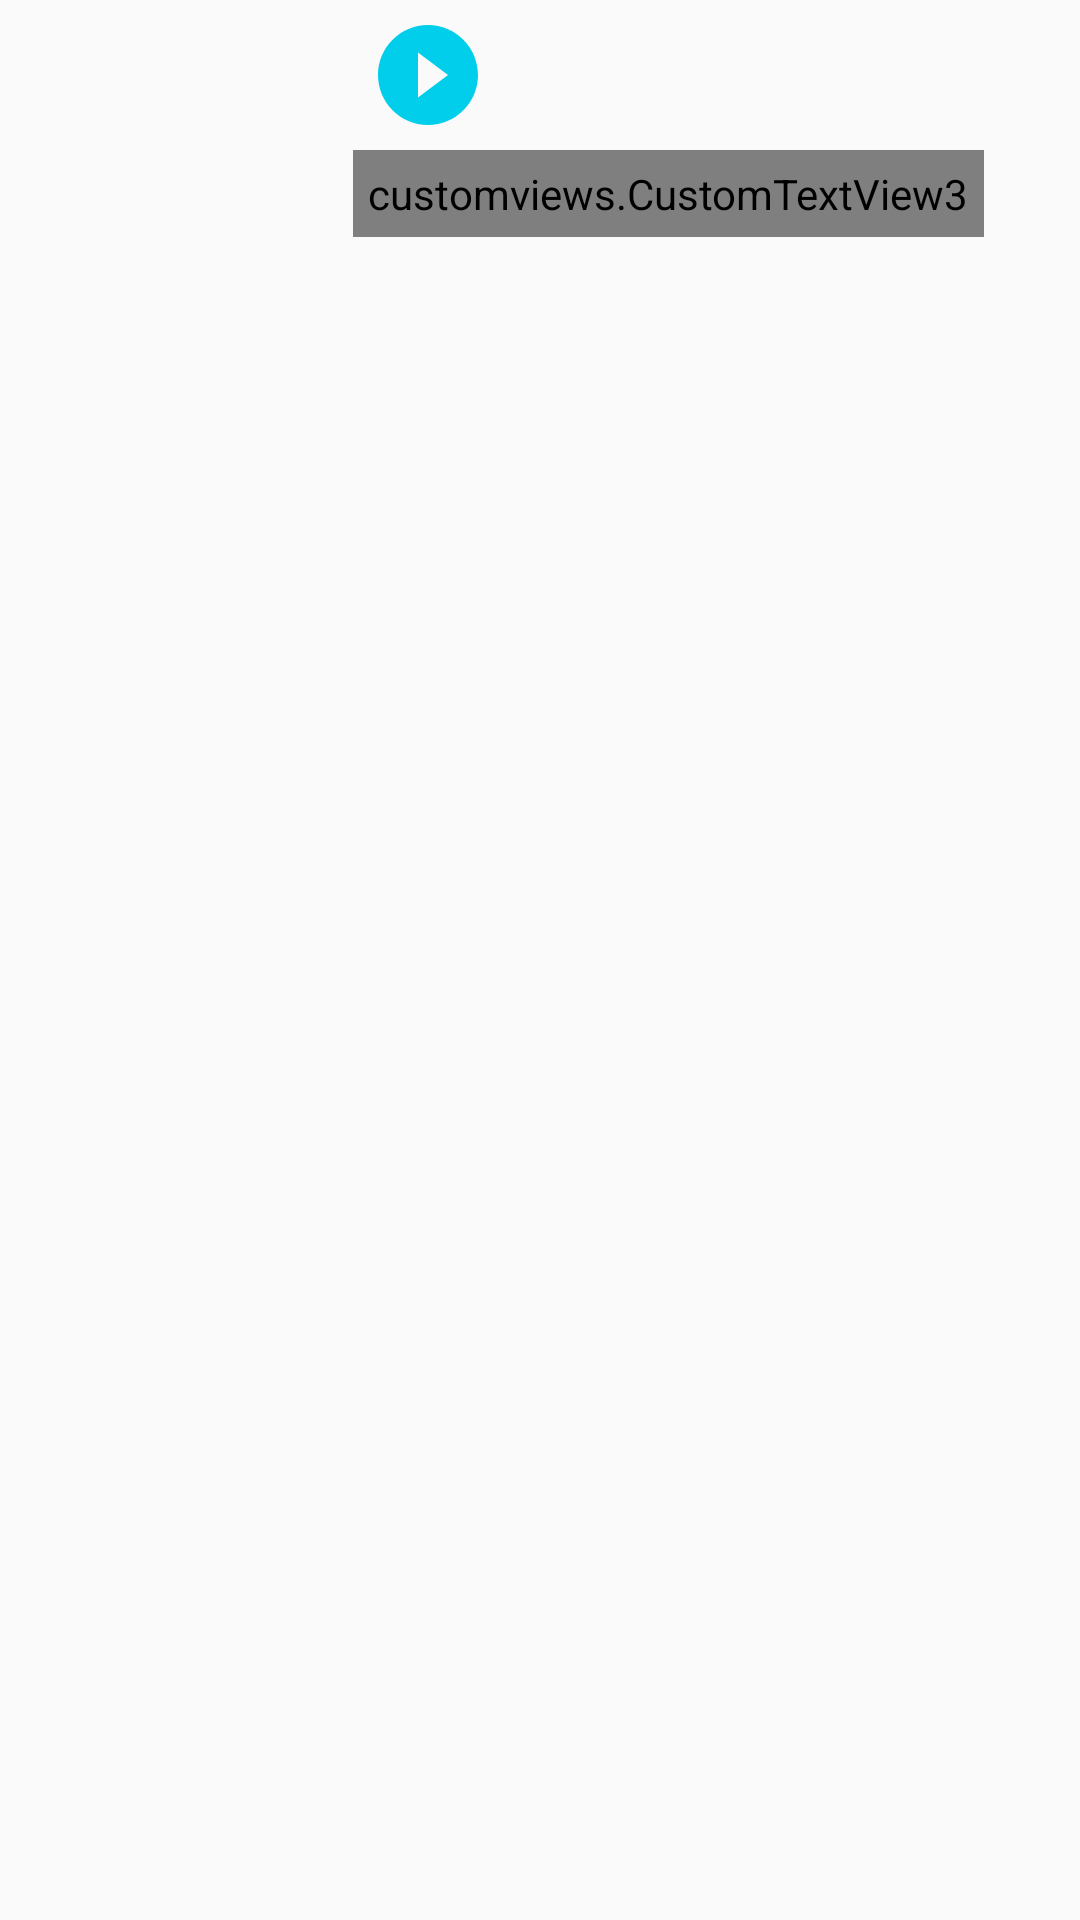

Icon click points for this 1080*1920 phone screenshot, format (x=x, y=y):
play circle: (x=428, y=75)
